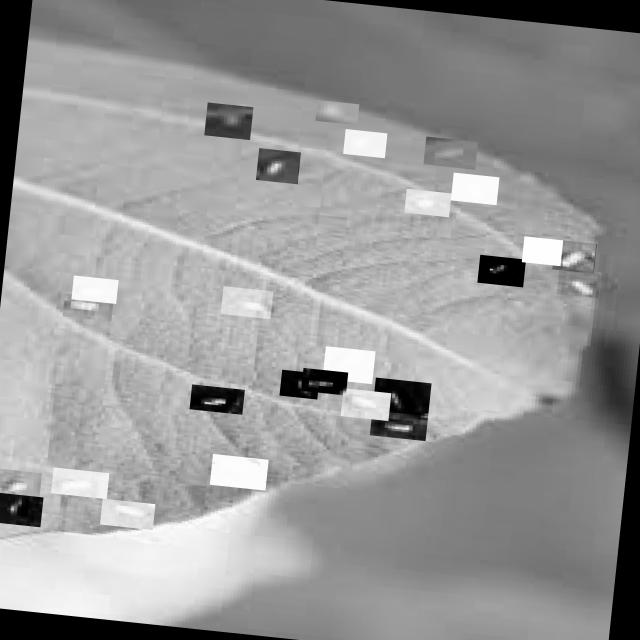aphid: (372, 376, 431, 415), (210, 452, 269, 490), (369, 406, 428, 441), (322, 344, 375, 382), (204, 101, 253, 139), (51, 466, 109, 498), (423, 136, 478, 168), (220, 285, 273, 318), (340, 386, 391, 419), (100, 498, 155, 528), (190, 383, 244, 413), (256, 147, 301, 183), (450, 171, 499, 204), (476, 254, 526, 286), (552, 238, 597, 272), (0, 490, 43, 525), (62, 292, 113, 320), (71, 274, 118, 303), (404, 187, 451, 216), (300, 366, 348, 394), (521, 235, 563, 265), (557, 269, 601, 297), (343, 128, 387, 156), (279, 368, 320, 398), (0, 467, 41, 496), (315, 98, 359, 124)
